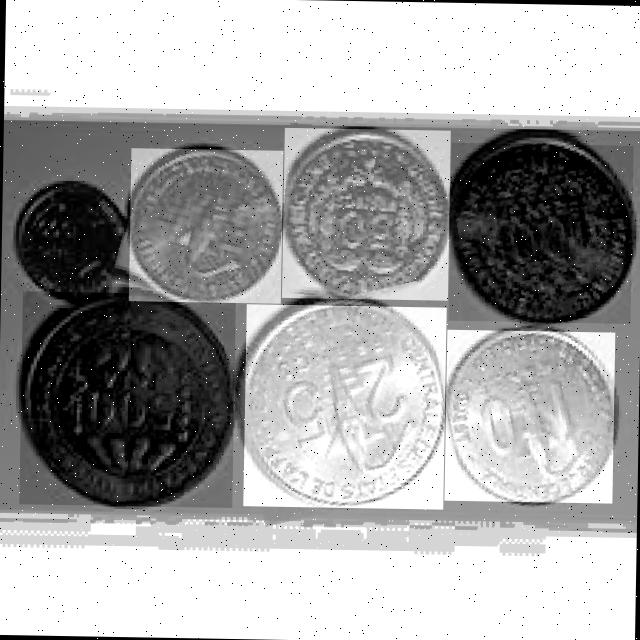derem: (129, 149, 281, 301)
fukk: (283, 129, 448, 299)
juroom derem: (244, 305, 444, 507)
niaari derem: (445, 331, 613, 502)
niaari fukk: (450, 144, 630, 322)
teemeer: (20, 293, 233, 506)
